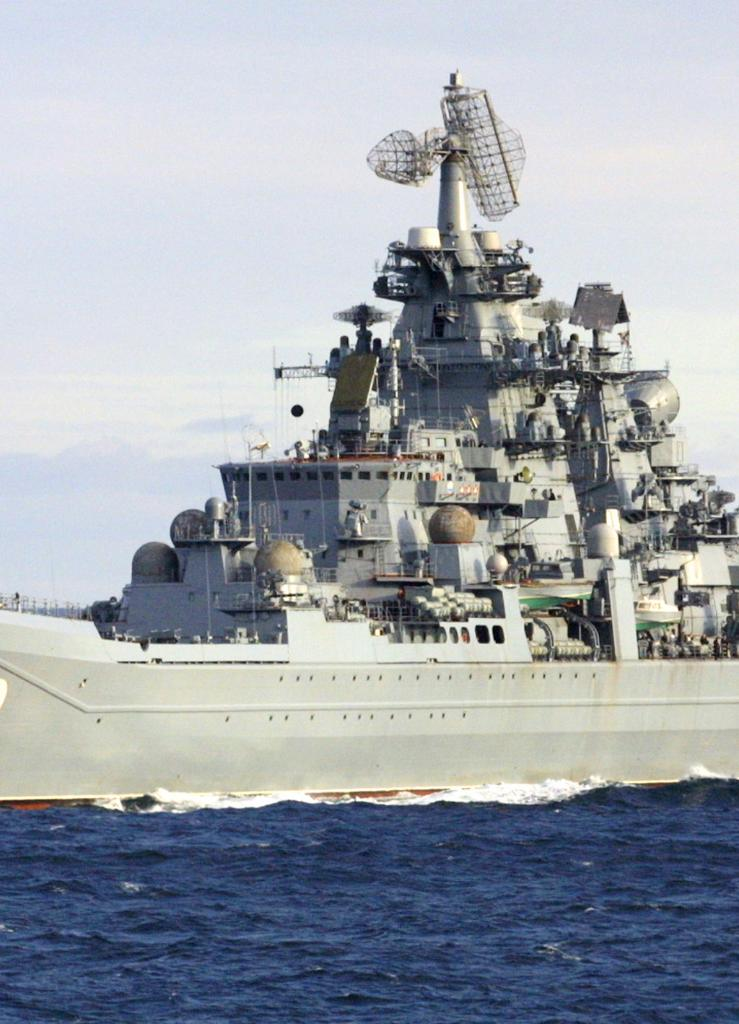Warship: (0, 60, 739, 831)
